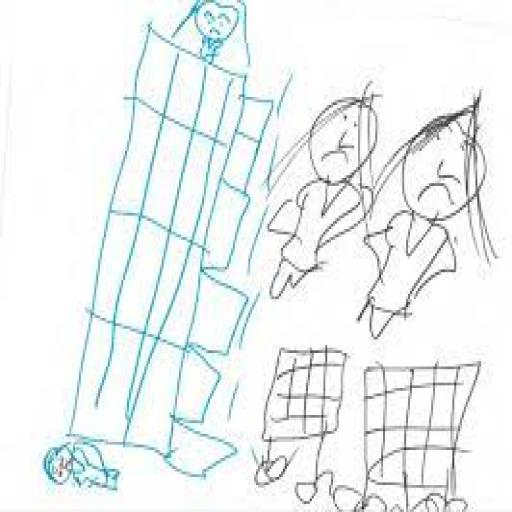person: (360, 98, 492, 336), (270, 95, 377, 299), (403, 114, 485, 220), (308, 100, 371, 185), (45, 442, 119, 490), (189, 0, 240, 64), (45, 445, 73, 485)
